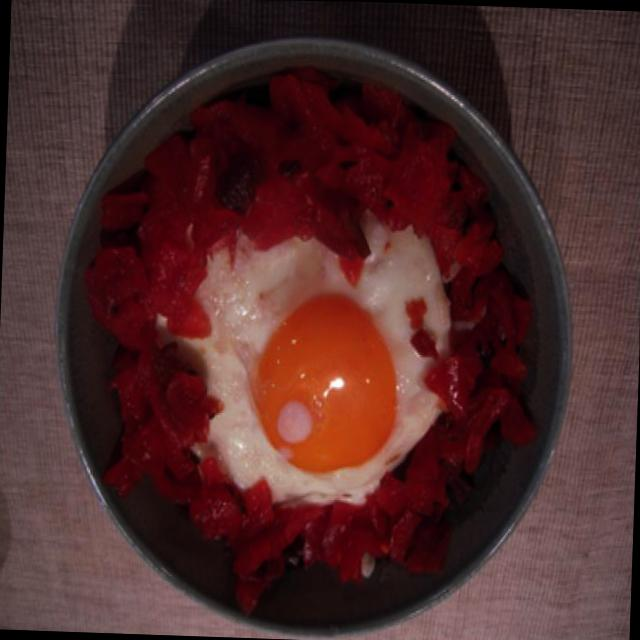Egg: (170, 228, 464, 522)
